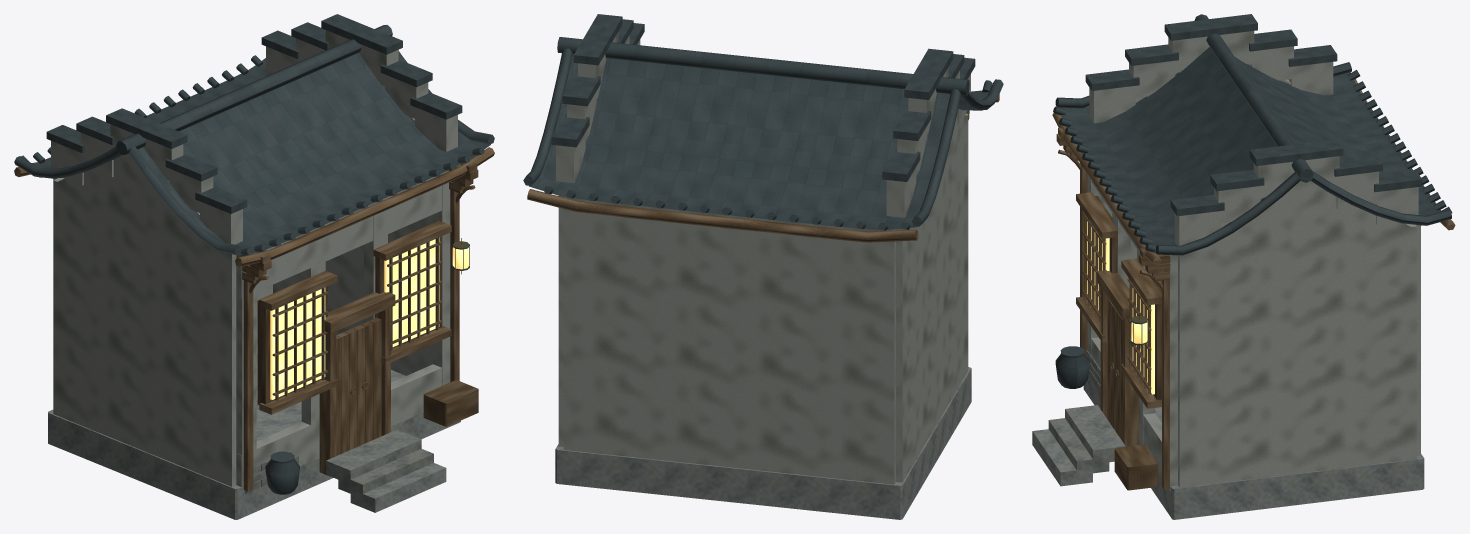
Rendered from house_04_lod0.glb.
The picture shows the model from 3 angles, left to right: view 1: azimuth 30°, elevation 25°; view 2: azimuth 150°, elevation 25°; view 3: azimuth 270°, elevation 25°; orthographic projection. The views are drawn at different scales.
Visible parts, largest first — view 1: house_04_L0__plaster, house_04_L0__tile, house_04_L0__timber, house_04_L0__stone, house_04_L0__paper; view 2: house_04_L0__plaster, house_04_L0__tile, house_04_L0__stone, house_04_L0__timber; view 3: house_04_L0__plaster, house_04_L0__tile, house_04_L0__timber, house_04_L0__stone, house_04_L0__paper.
Boxes of the visible parts, <box> form: house_04_L0__plaster: <box>51,30,457,491</box>; house_04_L0__tile: <box>14,14,494,494</box>; house_04_L0__timber: <box>14,68,494,491</box>; house_04_L0__stone: <box>48,328,460,519</box>; house_04_L0__paper: <box>270,237,469,399</box>; house_04_L0__plaster: <box>556,31,970,484</box>; house_04_L0__tile: <box>523,14,1003,230</box>; house_04_L0__stone: <box>555,367,971,519</box>; house_04_L0__timber: <box>527,94,999,242</box>; house_04_L0__plaster: <box>1087,31,1420,490</box>; house_04_L0__tile: <box>1053,14,1452,388</box>; house_04_L0__timber: <box>1052,79,1455,490</box>; house_04_L0__stone: <box>1032,350,1424,519</box>; house_04_L0__paper: <box>1087,221,1154,394</box>.
Bounding box in the file's own units: 5.74 × 5.07 × 5.49.
6 materials, 6 textured.
